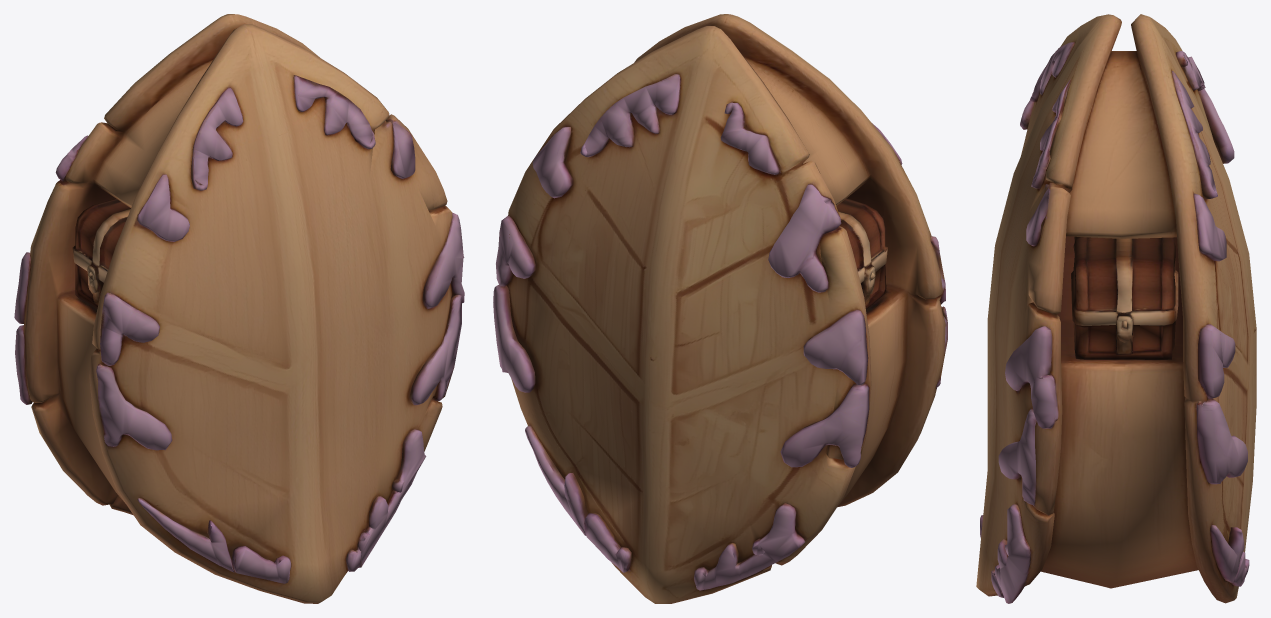
File: ending-shelter.glb
3 views of the same model, side by side, from view 1: azimuth 30°, elevation 25°; view 2: azimuth 150°, elevation 25°; view 3: azimuth 270°, elevation 25° (orthographic). The views are drawn at different scales.
Parts seen in each view (by area): view 1: tripo_node_51fa18d5-f4c9-4e1e-b639-ce0fe3c407f2; view 2: tripo_node_51fa18d5-f4c9-4e1e-b639-ce0fe3c407f2; view 3: tripo_node_51fa18d5-f4c9-4e1e-b639-ce0fe3c407f2.
Part boxes in pixels (<box>): tripo_node_51fa18d5-f4c9-4e1e-b639-ce0fe3c407f2: <box>14,14,464,603</box>; tripo_node_51fa18d5-f4c9-4e1e-b639-ce0fe3c407f2: <box>493,14,947,603</box>; tripo_node_51fa18d5-f4c9-4e1e-b639-ce0fe3c407f2: <box>976,14,1256,603</box>.
Size of the model in its own units: 0.7051 by 0.998 by 0.4395.
Materials: 1 (1 with a texture image).
